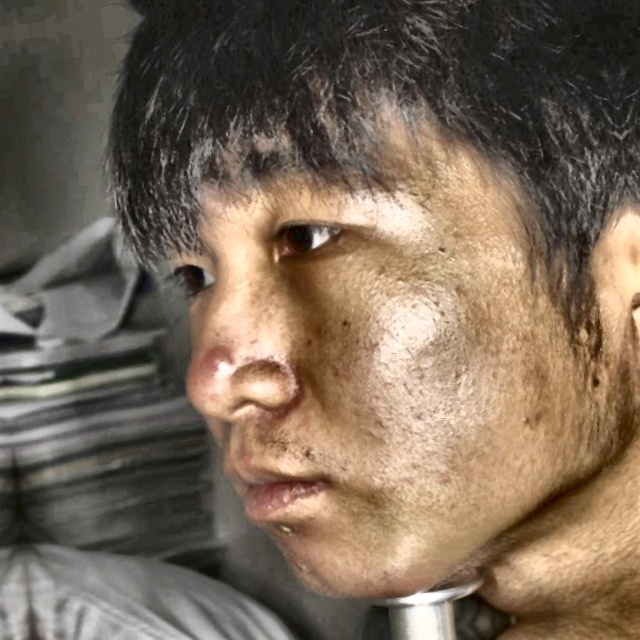comedone: (196, 336, 233, 374)
